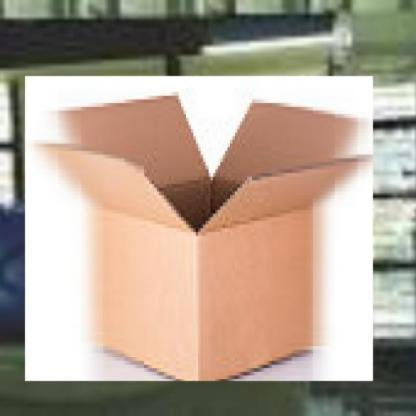-: (20, 72, 379, 386)
